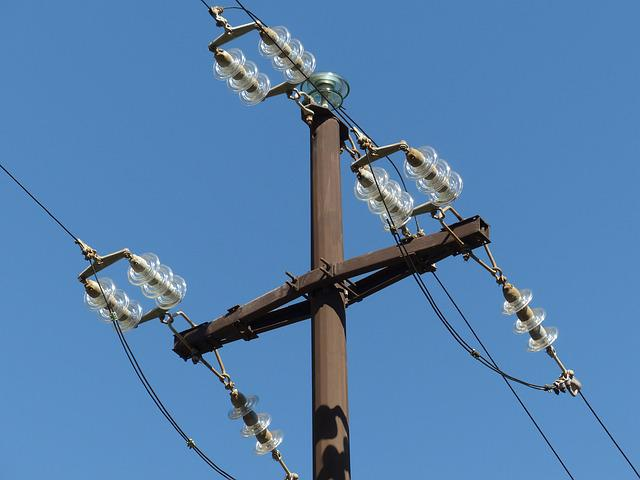isolator: (354, 144, 464, 230), (211, 25, 316, 107), (82, 252, 187, 334), (500, 287, 560, 351), (227, 393, 284, 456), (299, 70, 350, 111)
